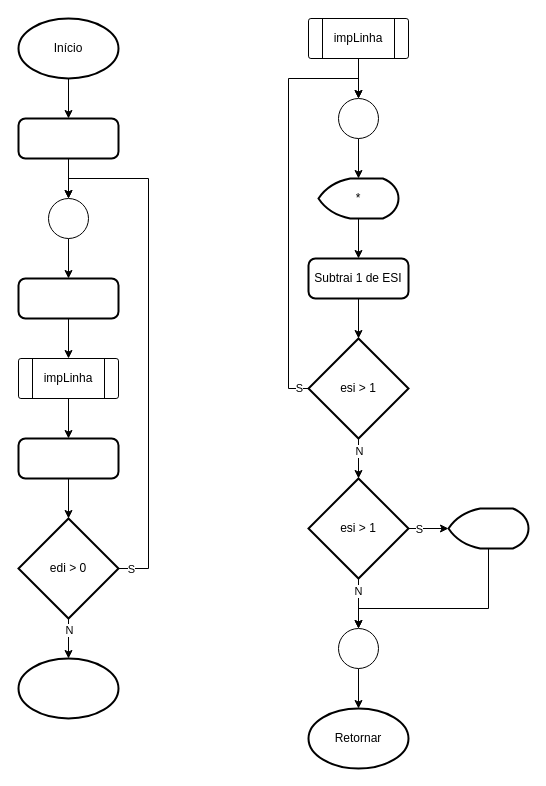
The diagram is 546 pixels wide and 786 high, and some of its shapes have lost their labels. Each missing label, with the centre of its shape:
*, LF: (x=488, y=528)
Colocar a altura em EDI: (x=68, y=138)
Colocar a largura em ESI: (x=68, y=298)
Fim: (x=68, y=688)
Subtrai 1 de EDI: (x=68, y=458)
